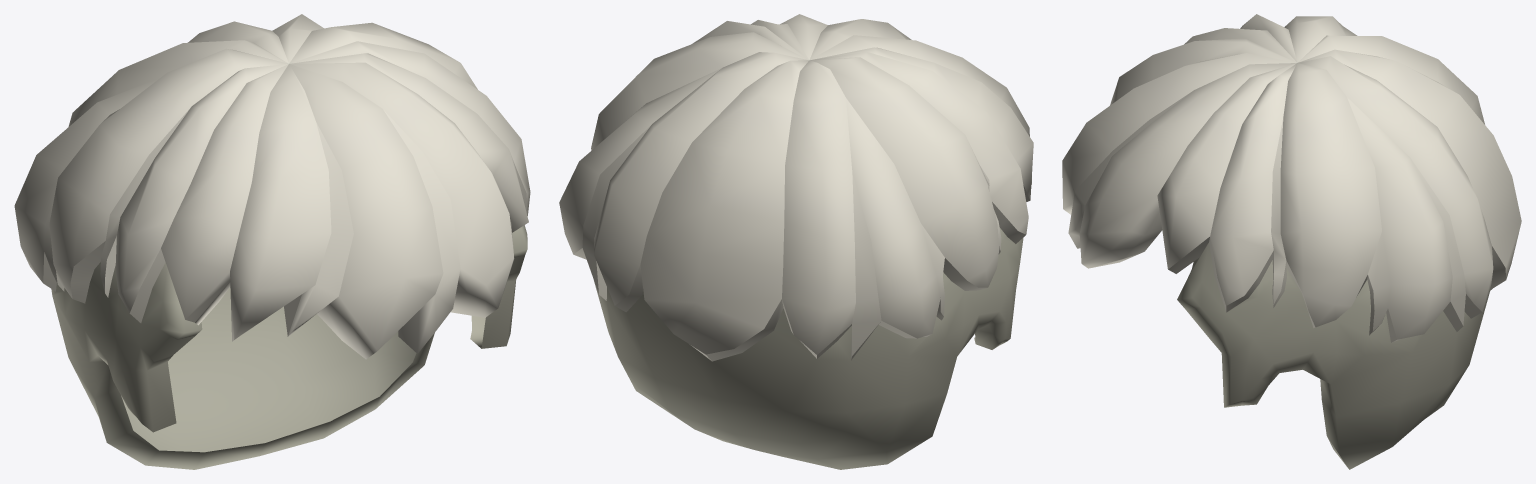
The model's file is Hair_16.fbx.
The picture shows the model from 3 angles, left to right: view 1: azimuth 30°, elevation 25°; view 2: azimuth 150°, elevation 25°; view 3: azimuth 270°, elevation 25°; orthographic projection. The views are drawn at different scales.
Visible parts, largest first — view 1: Hair_16; view 2: Hair_16; view 3: Hair_16.
Boxes of the visible parts, x1,y1,x2,y2 form: Hair_16: (14,14,530,469); Hair_16: (559,14,1033,469); Hair_16: (1062,14,1521,469).
Bounding box in the file's own units: 57.56 × 55.6 × 59.01.
